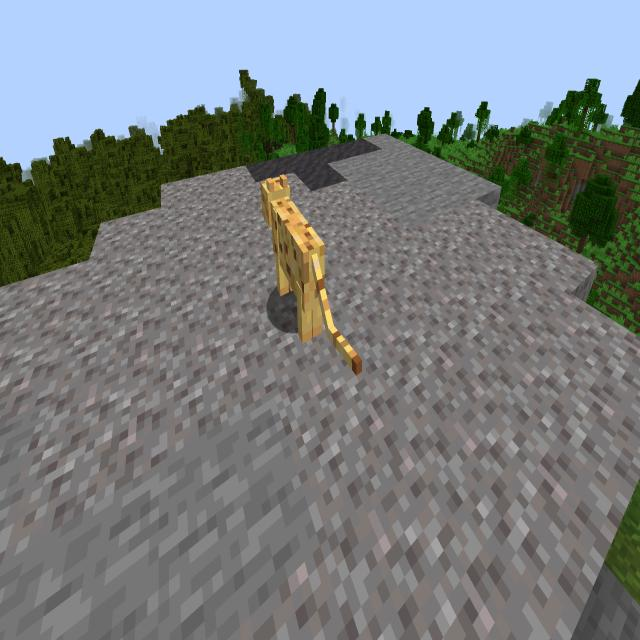Ocelot: (255, 165, 372, 395)
